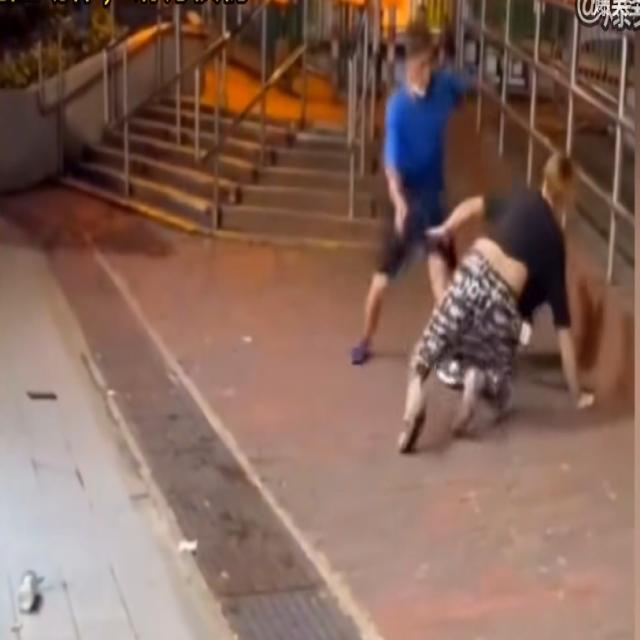nofight: (397, 156, 596, 452), (368, 15, 456, 335)
